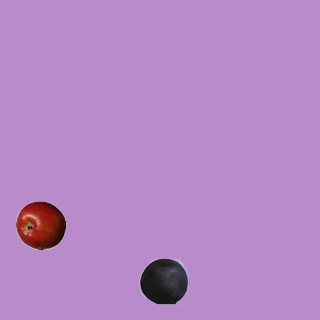Apple Braeburn: (15, 200, 65, 250)
Grape Blue: (138, 255, 188, 305)
